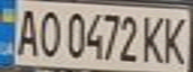0: (63, 8, 84, 60)
2: (118, 11, 142, 63)
4: (84, 9, 106, 61)
7: (103, 10, 121, 62)
A: (9, 5, 42, 57)
K: (157, 12, 193, 65), (139, 11, 169, 64)
O: (33, 7, 63, 58)
